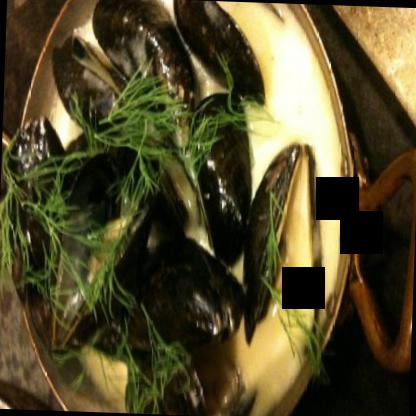mussel: (236, 141, 330, 345), (89, 0, 212, 124), (163, 0, 282, 111), (48, 33, 142, 136)
